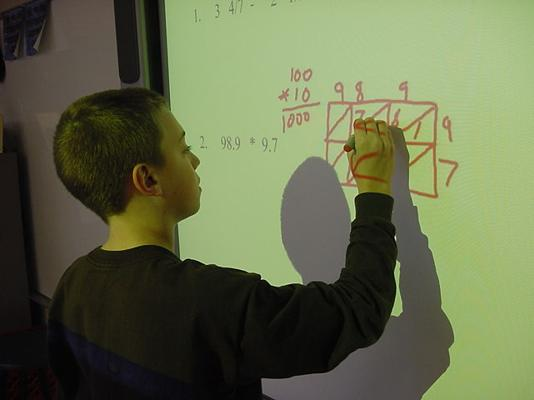person: (44, 87, 398, 397)
